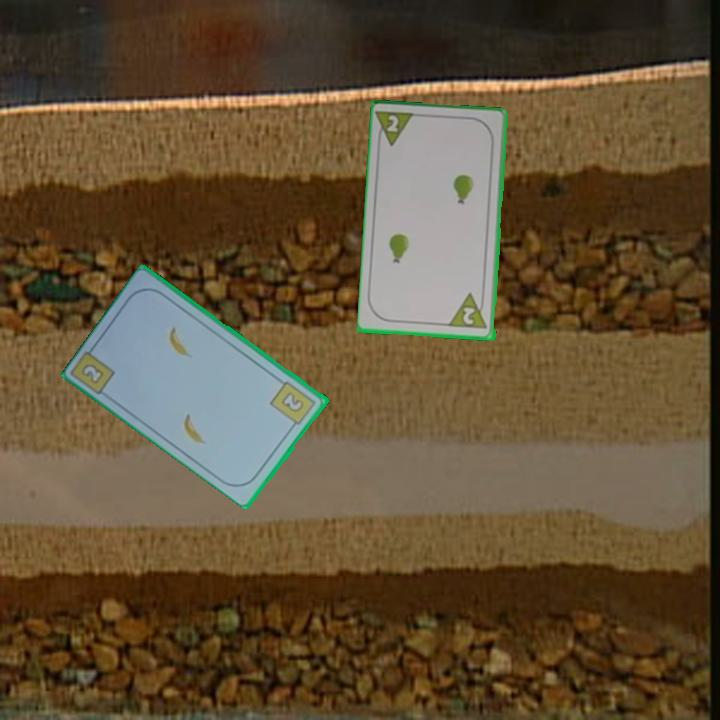2b: (267, 377, 319, 431), (78, 360, 107, 387)
2p: (374, 107, 419, 150), (447, 290, 490, 332)
